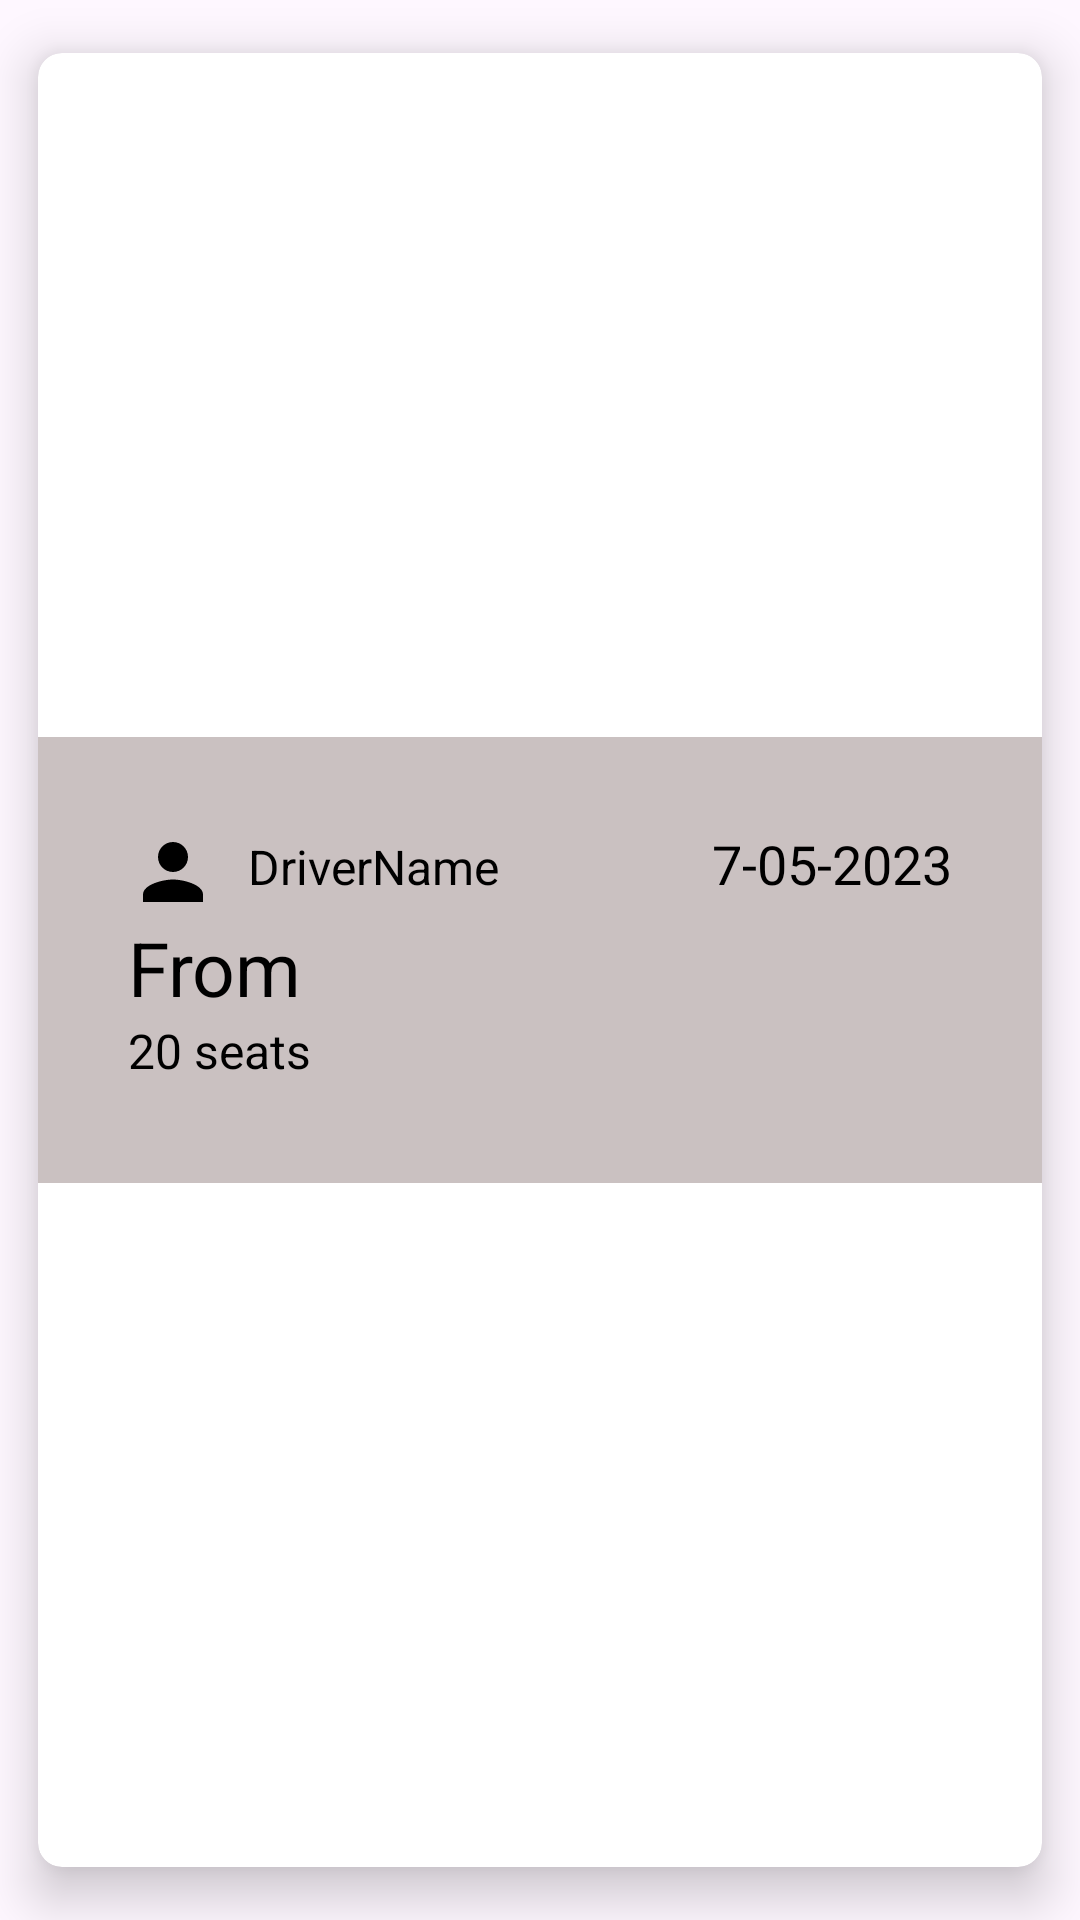

Icon bounding boxes for this 1080 x 1920 phone screenshot, format {"x1": x1, "y1": y1, "x2": x2, "y2": y2}:
person: {"x1": 143, "y1": 842, "x2": 203, "y2": 902}
